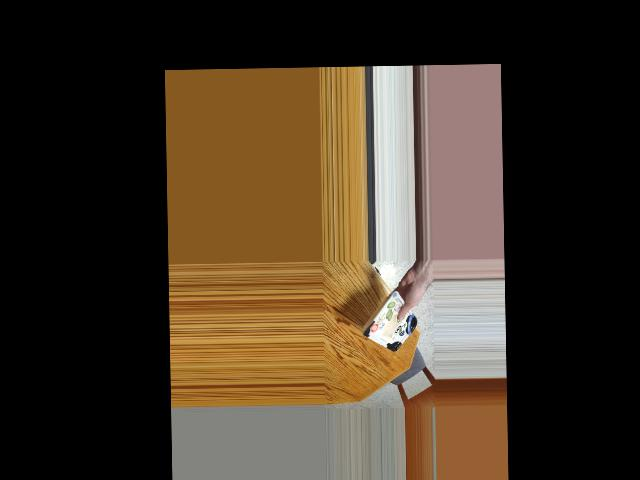cheese: (366, 298, 412, 352)
